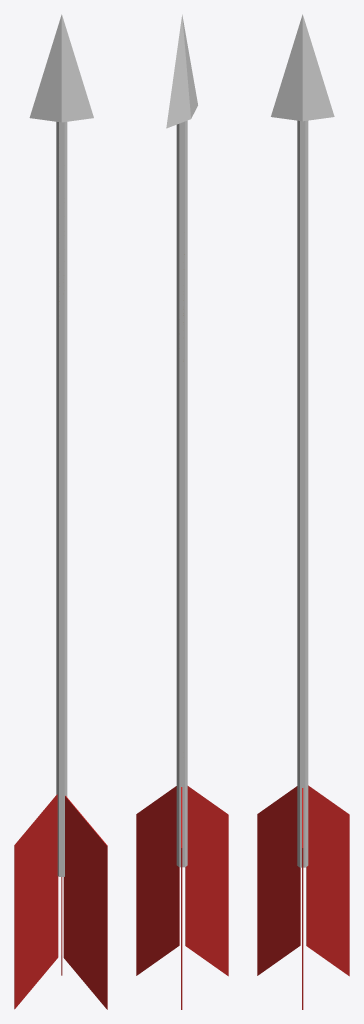
The model's file is arrow.dae.
The picture shows the model from 3 angles, left to right: view 1: azimuth 90°, elevation 25°; view 2: azimuth 150°, elevation 25°; view 3: azimuth 270°, elevation 25°; orthographic projection.
Parts seen in each view (by area): view 1: Cube_003, Cylinder, Cube_001; view 2: Cylinder, Cube_003, Cube, Cube_001; view 3: Cube_003, Cylinder, Cube_001, Cube.
Boxes of the visible parts, <box> form: Cube_003: <box>14,794,107,1009</box>; Cylinder: <box>56,121,67,876</box>; Cube_001: <box>29,14,93,122</box>; Cylinder: <box>176,120,187,867</box>; Cube_003: <box>181,786,228,1009</box>; Cube: <box>136,786,179,975</box>; Cube_001: <box>166,14,197,128</box>; Cube_003: <box>257,785,349,976</box>; Cylinder: <box>297,120,308,867</box>; Cube_001: <box>271,14,334,121</box>; Cube: <box>302,788,303,1009</box>.
Size of the model in its own units: 0.1914 by 0.2197 by 2.55.
